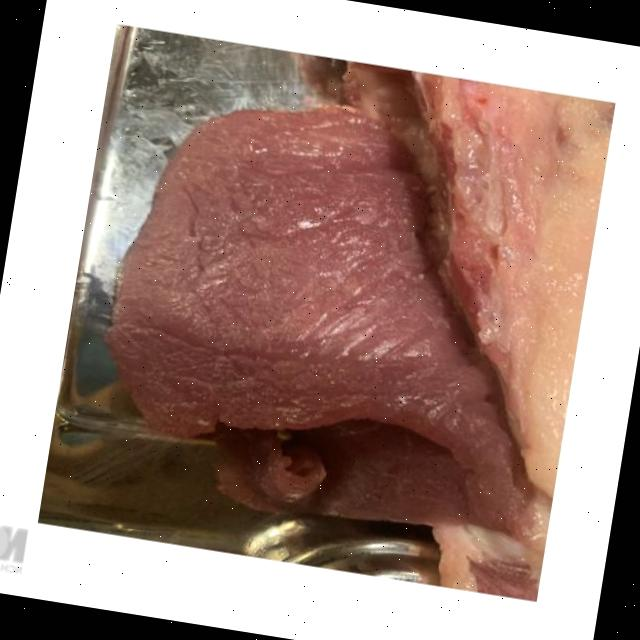rotten meat: (21, 4, 640, 616)
